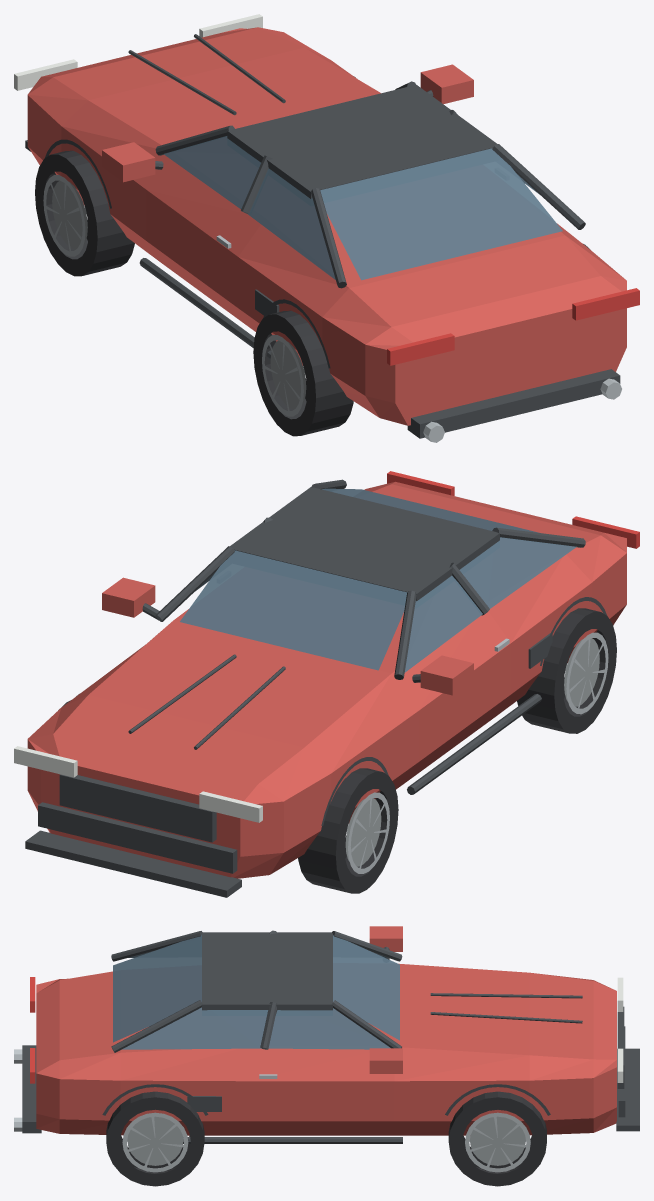
File: orion_rs.gltf
3 views of the same model, one above another, from view 1: azimuth 30°, elevation 25°; view 2: azimuth 150°, elevation 25°; view 3: azimuth 270°, elevation 25° (orthographic). The views are drawn at different scales.
Parts seen in each view (by area): view 1: Body_Shell, Backlight, Roof_Frame, Tire_RL, Tire_FL, Rear_Diffuser, Quarter_Glass_L, Door_Glass_L, Mirror_Cap_L, Mirror_Cap_R, Brake_FL, Brake_RL (+10 smaller); view 2: Body_Shell, Roof_Frame, Windshield, Tire_FL, Tire_RL, Front_Grille, Lower_Intake, Splitter, Quarter_Glass_L, Door_Glass_L, Backlight, Side_Sill_L (+13 smaller); view 3: Body_Shell, Roof_Frame, Backlight, Windshield, Tire_FR, Tire_RR, Quarter_Glass_R, Door_Glass_R, Brake_RR, Brake_FR, Splitter, Side_Sill_R (+16 smaller).
Boxes of the visible parts, <box> form: Body_Shell: <box>27,27,626,425</box>; Backlight: <box>320,148,562,280</box>; Roof_Frame: <box>227,85,496,198</box>; Tire_RL: <box>253,310,353,436</box>; Tire_FL: <box>35,150,134,276</box>; Rear_Diffuser: <box>407,369,620,438</box>; Quarter_Glass_L: <box>248,168,335,279</box>; Door_Glass_L: <box>164,136,260,208</box>; Mirror_Cap_L: <box>102,142,155,182</box>; Mirror_Cap_R: <box>420,64,473,104</box>; Brake_FL: <box>52,181,87,249</box>; Brake_RL: <box>270,340,306,408</box>; Body_Shell: <box>27,481,626,878</box>; Roof_Frame: <box>230,487,499,601</box>; Windshield: <box>180,550,407,670</box>; Tire_FL: <box>298,768,398,893</box>; Tire_RL: <box>517,608,616,733</box>; Front_Grille: <box>59,774,216,842</box>; Lower_Intake: <box>38,802,237,873</box>; Splitter: <box>25,830,241,897</box>; Quarter_Glass_L: <box>459,537,576,608</box>; Door_Glass_L: <box>404,575,482,672</box>; Backlight: <box>322,488,539,532</box>; Side_Sill_L: <box>407,694,541,794</box>; Body_Shell: <box>36,963,616,1135</box>; Roof_Frame: <box>202,932,332,1013</box>; Backlight: <box>113,934,201,1042</box>; Windshield: <box>333,935,399,1040</box>; Tire_FR: <box>448,1091,546,1186</box>; Tire_RR: <box>106,1091,204,1186</box>; Quarter_Glass_R: <box>122,1007,268,1049</box>; Door_Glass_R: <box>268,1008,390,1049</box>; Brake_RR: <box>127,1116,183,1165</box>; Brake_FR: <box>470,1116,525,1165</box>; Splitter: <box>616,1048,639,1131</box>; Side_Sill_R: <box>183,1137,402,1143</box>.
Bounding box in the file's own units: 2.29 × 1.3 × 4.52.
